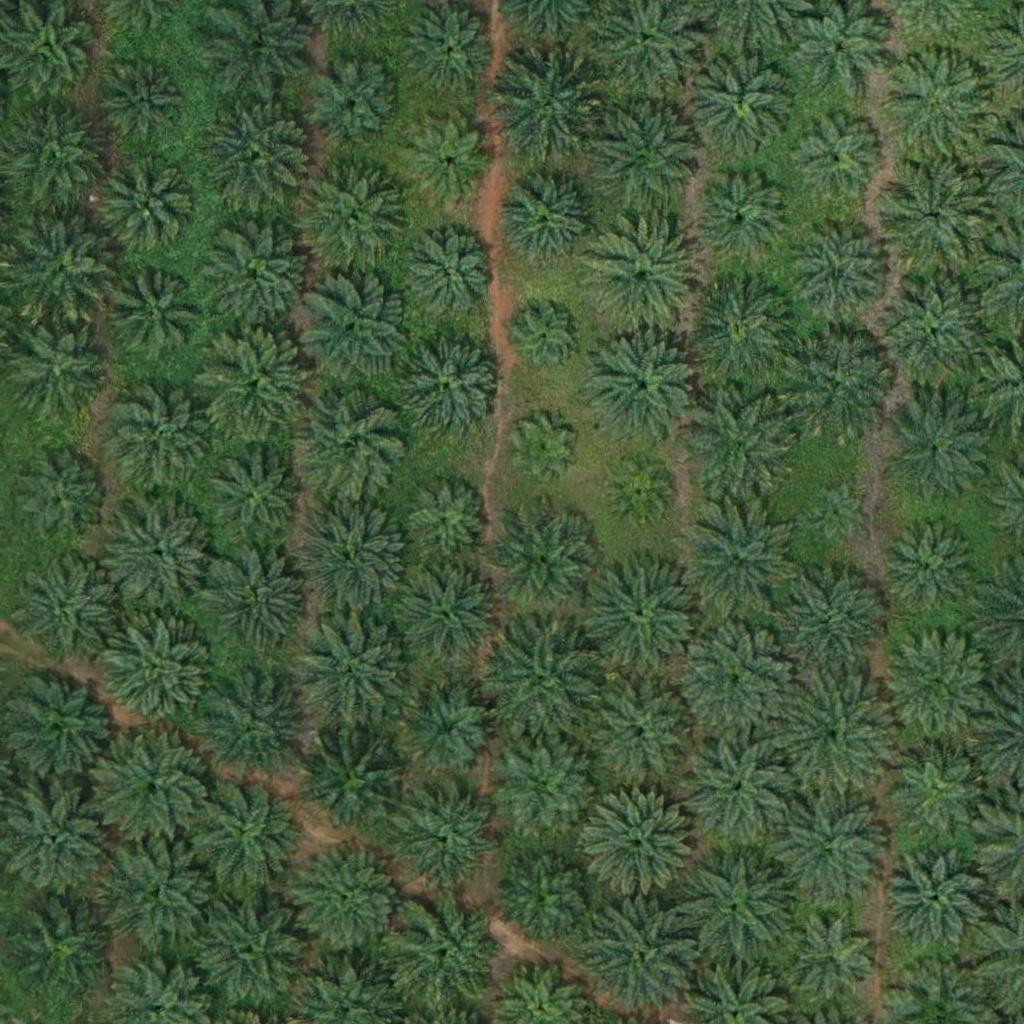Kelapa_Sawit: (487, 51, 600, 165), (881, 397, 994, 511), (300, 725, 413, 839), (8, 550, 121, 664), (185, 777, 298, 891), (292, 843, 405, 957), (390, 896, 503, 1010), (204, 103, 317, 216), (199, 222, 312, 335), (493, 160, 606, 273), (585, 222, 698, 335), (882, 50, 995, 163), (874, 159, 987, 272), (879, 278, 992, 391), (678, 499, 791, 612), (682, 622, 795, 735), (587, 333, 700, 446), (584, 559, 697, 672), (292, 388, 405, 501), (296, 501, 409, 614), (297, 616, 410, 729), (197, 326, 310, 439), (199, 446, 312, 559), (2, 892, 115, 1005), (584, 789, 697, 902), (677, 734, 790, 847), (680, 848, 793, 961), (590, 95, 702, 209), (687, 163, 799, 277), (781, 332, 893, 446), (684, 275, 796, 389), (195, 665, 307, 779), (105, 496, 217, 610), (101, 617, 213, 731), (5, 110, 117, 223), (294, 160, 406, 273), (688, 46, 800, 159), (882, 630, 994, 743), (776, 564, 888, 677), (778, 677, 890, 790), (687, 388, 799, 501), (584, 678, 696, 791), (488, 505, 600, 618), (487, 627, 599, 740), (396, 332, 508, 445), (390, 563, 502, 676), (296, 273, 408, 386), (200, 548, 312, 661), (106, 380, 218, 493), (2, 214, 114, 327), (96, 732, 208, 845), (101, 836, 213, 949), (197, 895, 309, 1008), (582, 902, 694, 1015), (772, 795, 884, 908), (97, 155, 197, 256), (303, 49, 403, 150), (398, 680, 498, 781), (103, 264, 203, 365), (498, 735, 598, 836), (499, 845, 599, 946), (783, 913, 883, 1014), (887, 735, 987, 836), (883, 846, 983, 947), (400, 1, 500, 101), (790, 224, 890, 324), (878, 516, 978, 616), (6, 323, 106, 423), (7, 453, 107, 553), (401, 785, 501, 885), (405, 233, 493, 321), (402, 473, 490, 561), (100, 58, 187, 147), (405, 117, 492, 205), (796, 114, 883, 202), (608, 460, 671, 523), (516, 306, 579, 369), (511, 417, 574, 480), (805, 480, 867, 543)
